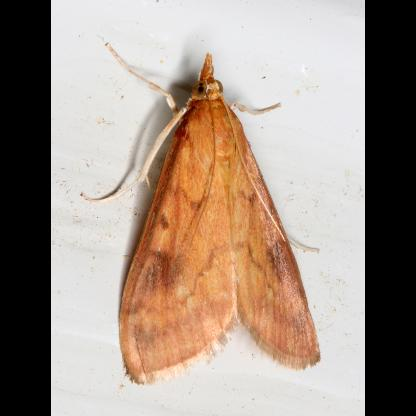Asian Corn Borer Moth: (78, 31, 326, 390)
